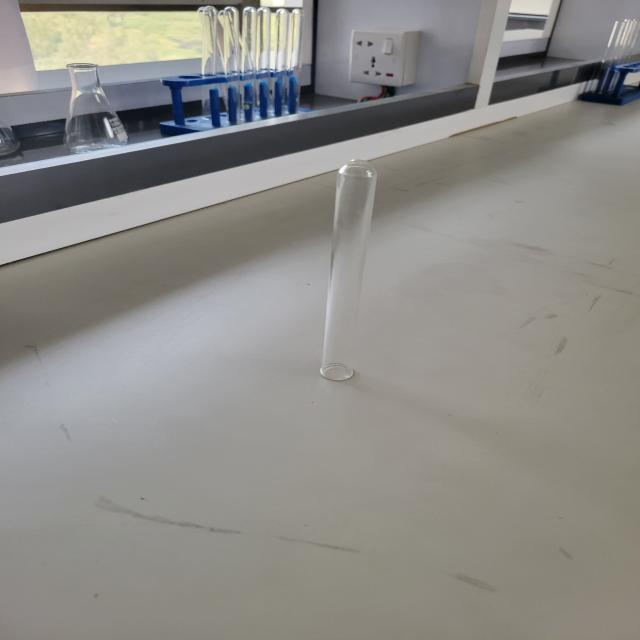Test_Tube: (250, 127, 430, 395)
